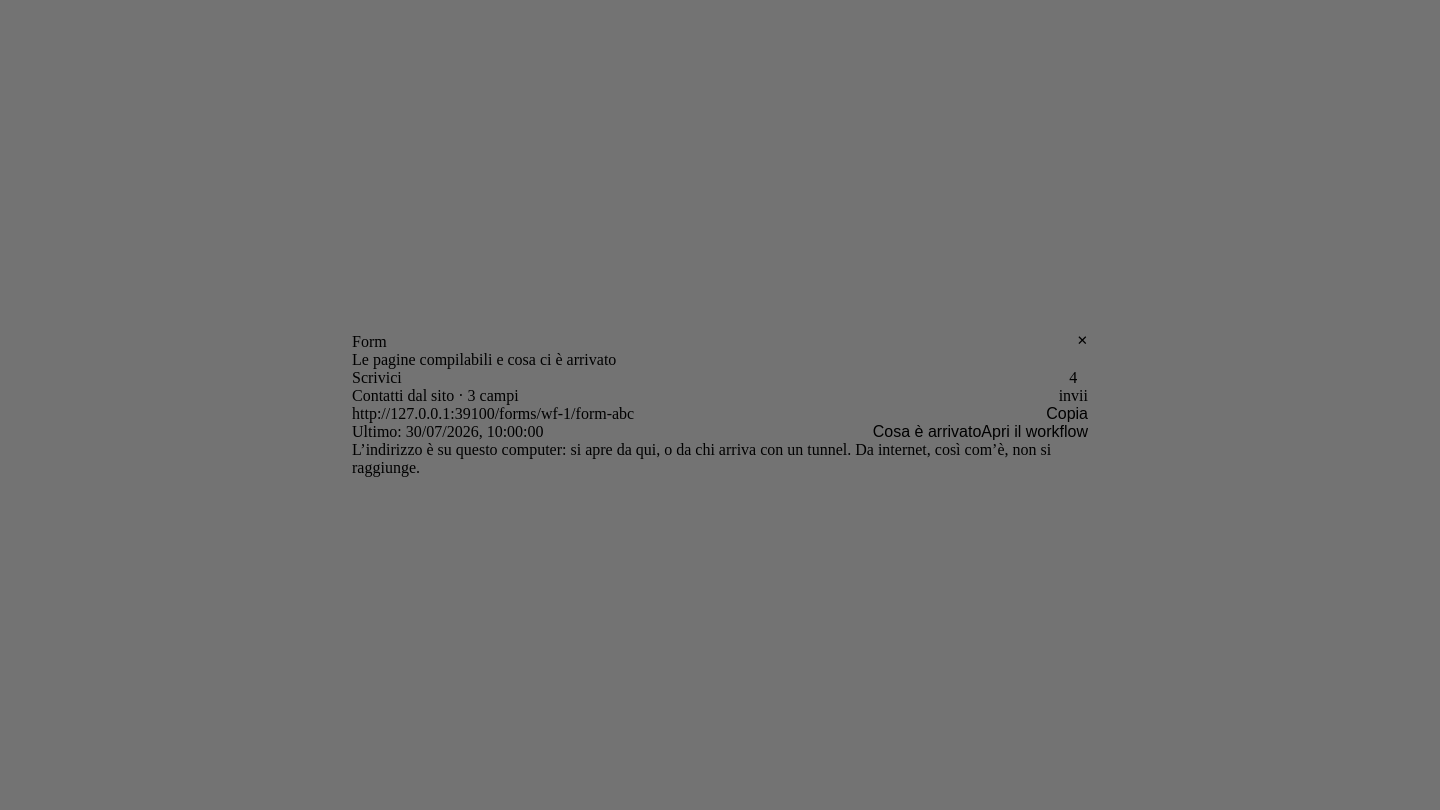
it: la finestra dei form › copia l’indirizzo
Click the button "Copia": (1067, 414) [1046, 405, 1088, 423]
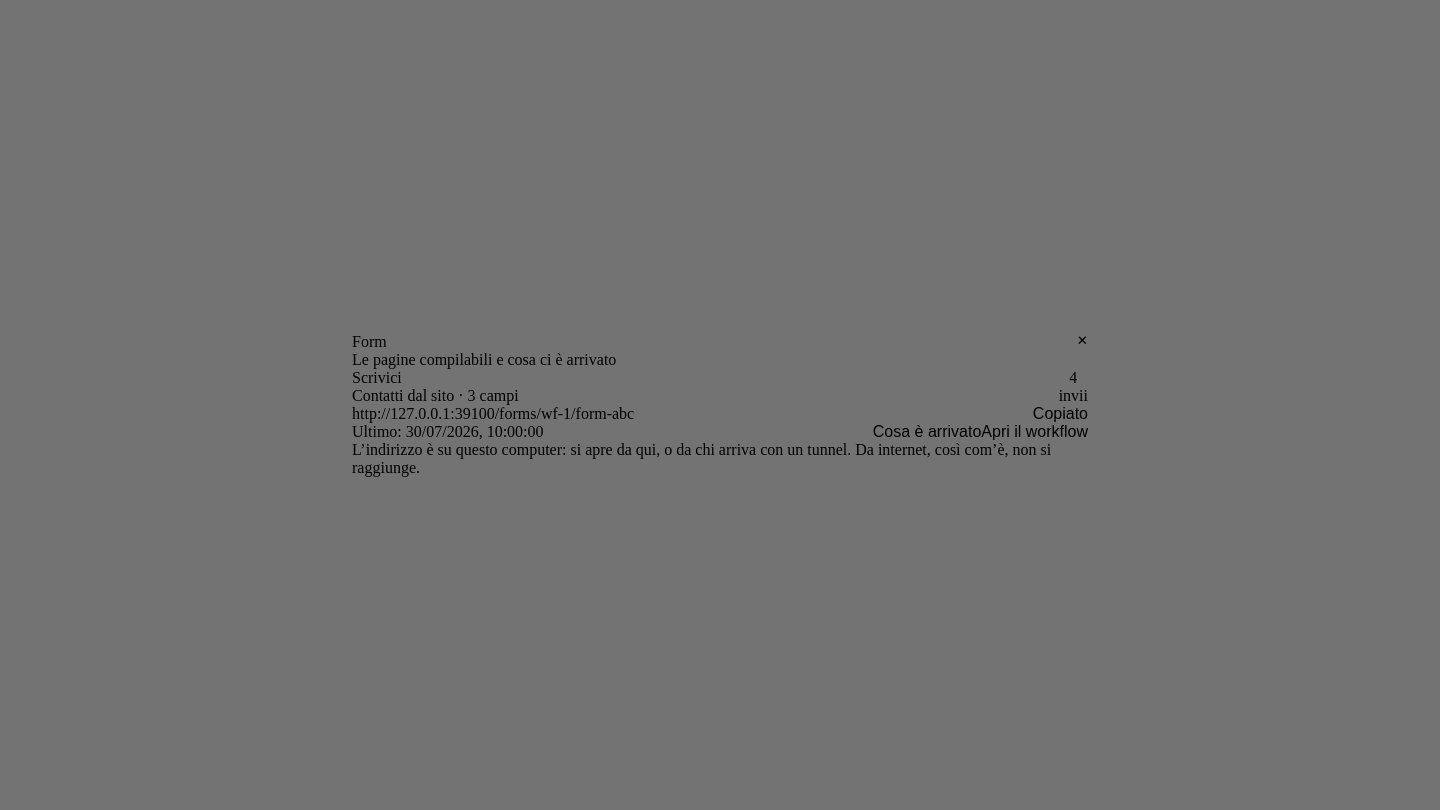
Expected: the button "Copiato" is shown, [1033, 405, 1088, 423]
